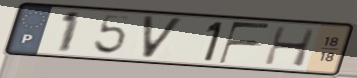1: (57, 11, 85, 54), (202, 20, 225, 63)
5: (90, 13, 135, 56)
F: (217, 21, 274, 66)
H: (261, 24, 319, 68)
V: (140, 14, 187, 61)
